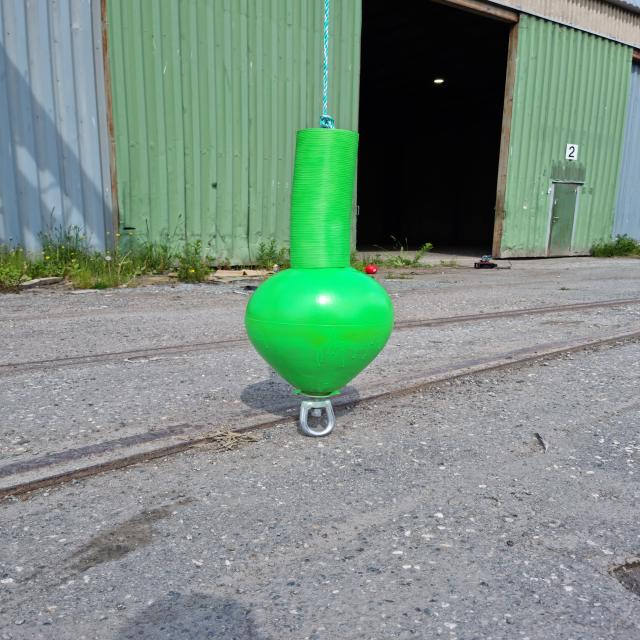green: (244, 129, 395, 395)
